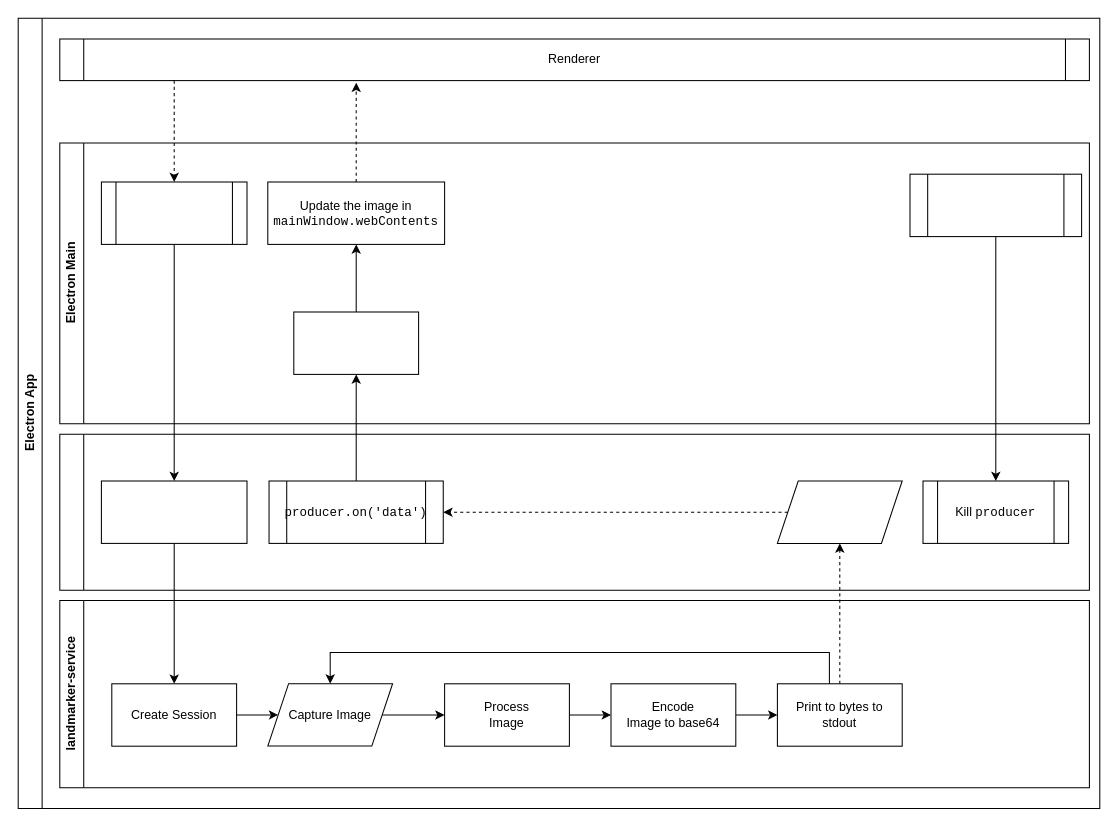
Some shapes in this 1118 by 827 pixel diagram are drawn without their labels. The shapes that lost their labels are listed below. From the top down, each one's box as (x1, y1, x2, y2) in pixels, then its label:
(100, 181, 247, 244): IpcMain.on('run-consumer')
(909, 173, 1082, 237): IpcMain.on('stop-consumer')
(293, 311, 419, 374): Parse Image String
(100, 480, 247, 543): Spawn Python Process as " producer "
(59, 433, 1089, 590): child_process
(776, 480, 902, 543): Image Bytes
